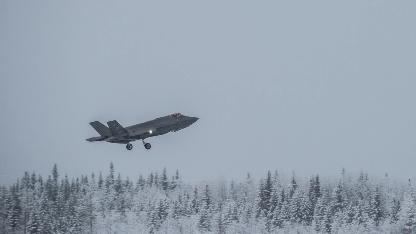F22: (85, 112, 199, 150)
